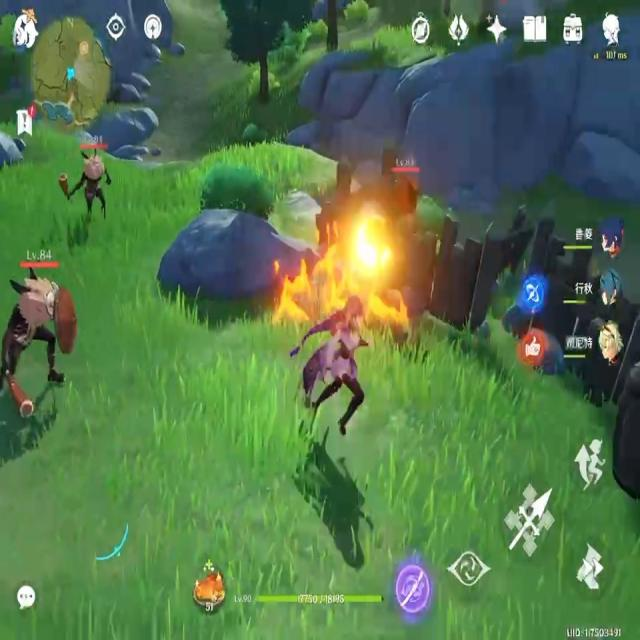genshin-hilichurls: (2, 256, 77, 422), (58, 137, 114, 224), (388, 151, 424, 286)
